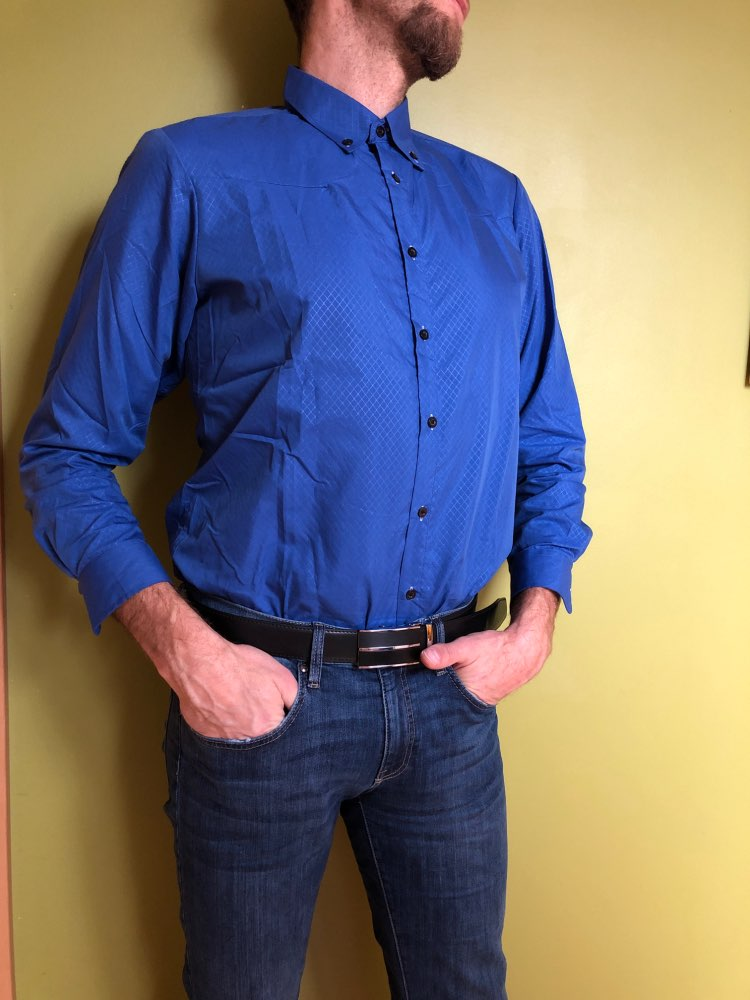shirts: (54, 86, 585, 683)
